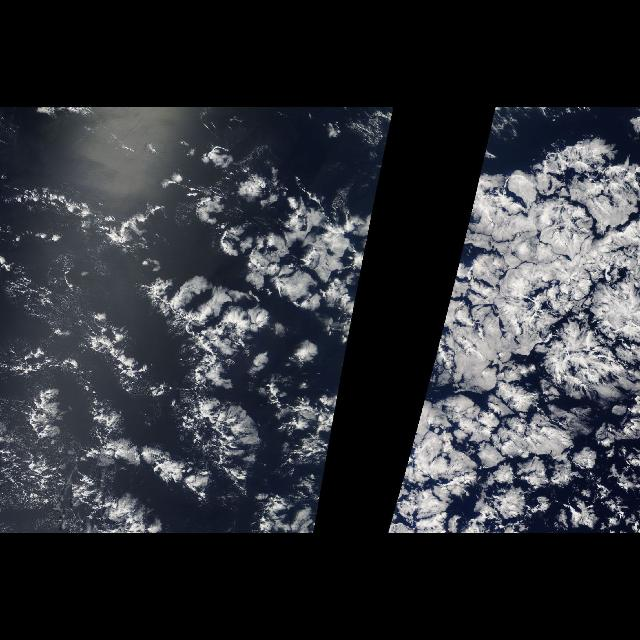Flower: (143, 277, 361, 533), (388, 277, 586, 533)
